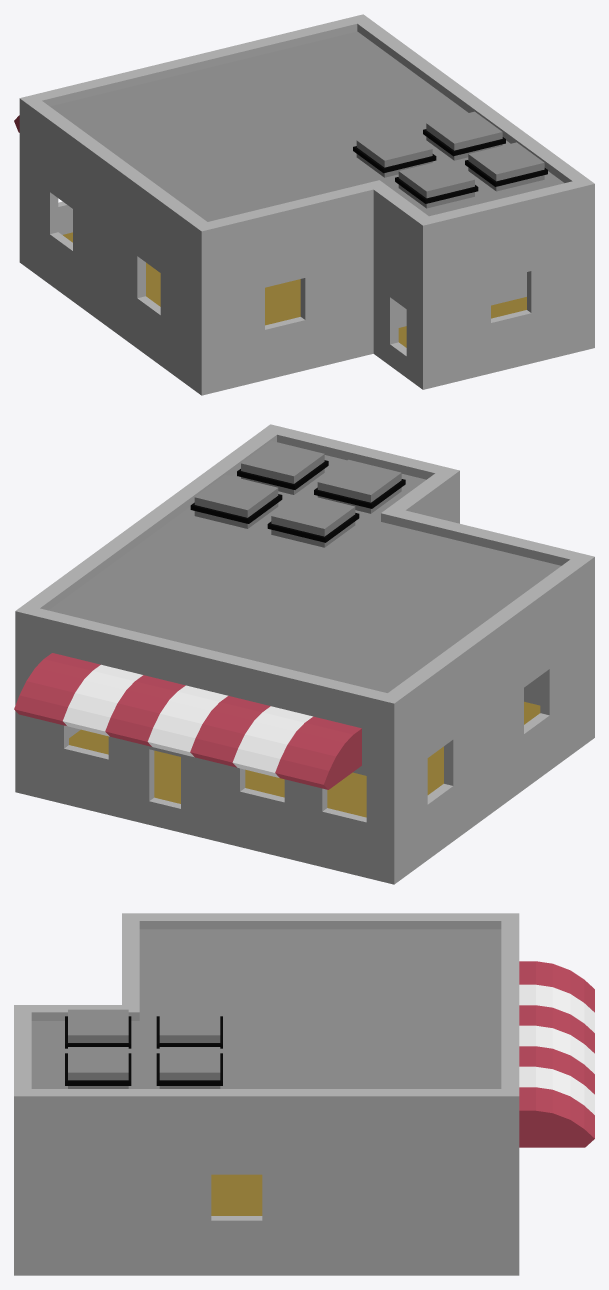
File: shop.fbx
The picture shows the model from 3 angles, top to bottom: view 1: azimuth 30°, elevation 25°; view 2: azimuth 150°, elevation 25°; view 3: azimuth 270°, elevation 25°; orthographic projection. The views are drawn at different scales.
Parts seen in each view (by area): view 1: Plane.001; view 2: Plane.001; view 3: Plane.001.
Part boxes in pixels (box(x1,y1,x2,y2)): Plane.001: box(14, 14, 594, 395); Plane.001: box(14, 424, 594, 884); Plane.001: box(14, 913, 594, 1275).
Bounding box in the file's own units: 1526 × 736 × 2048.
